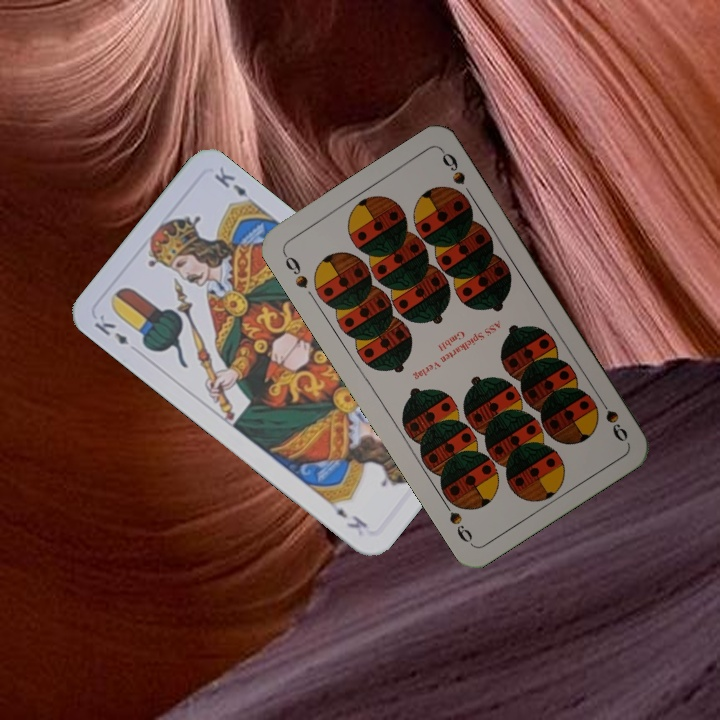EK: (90, 310, 132, 348)
S9: (593, 391, 631, 445), (279, 248, 311, 291)
